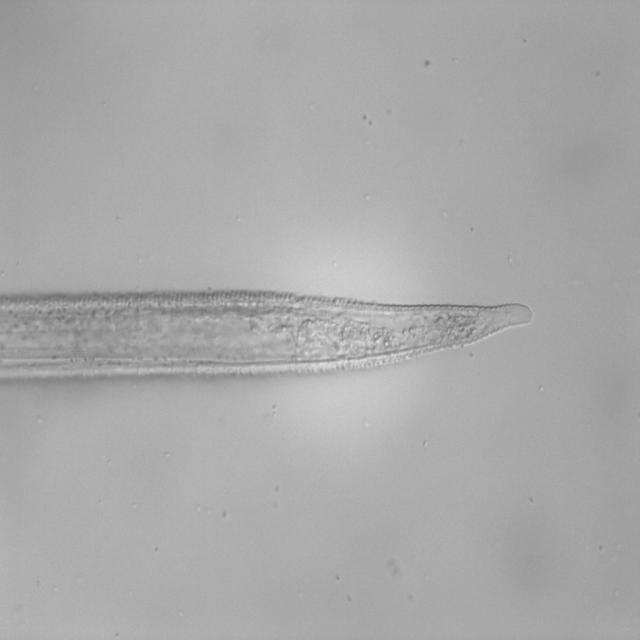Radopholus: (0, 284, 551, 388)
